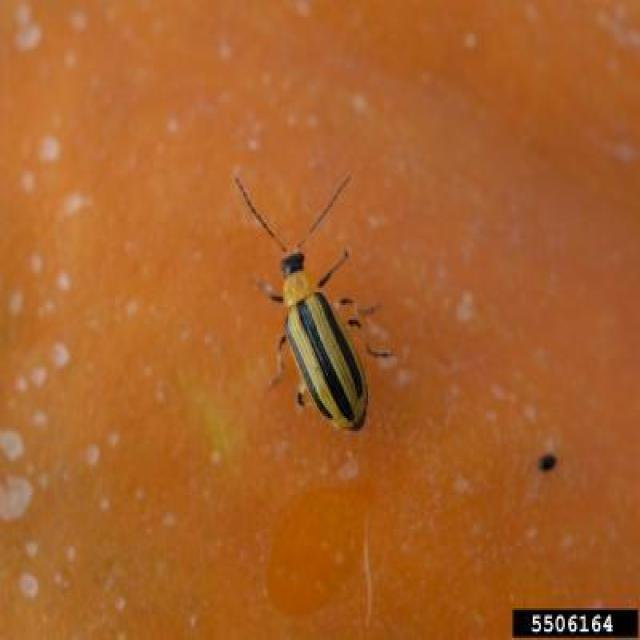trips: (226, 171, 417, 472)
